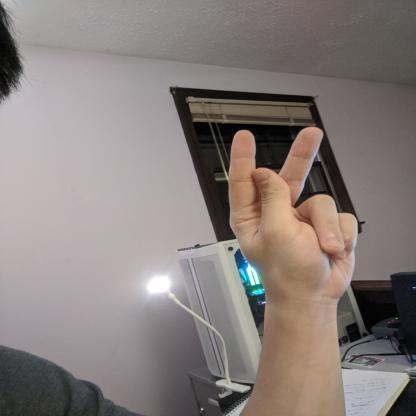K: (224, 121, 362, 304)
